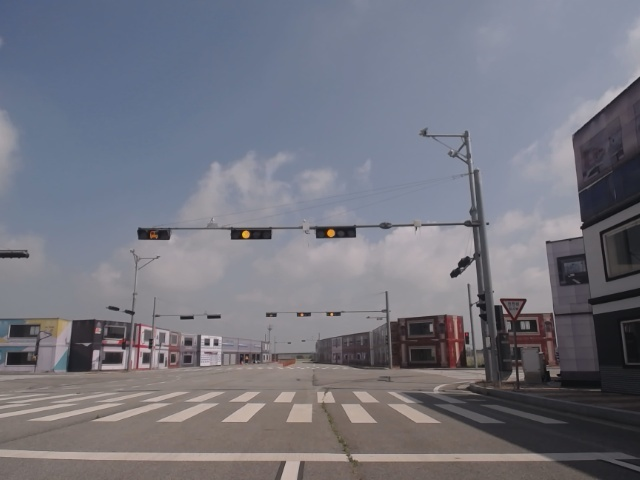orange_4: (232, 228, 273, 241), (318, 227, 357, 238)
